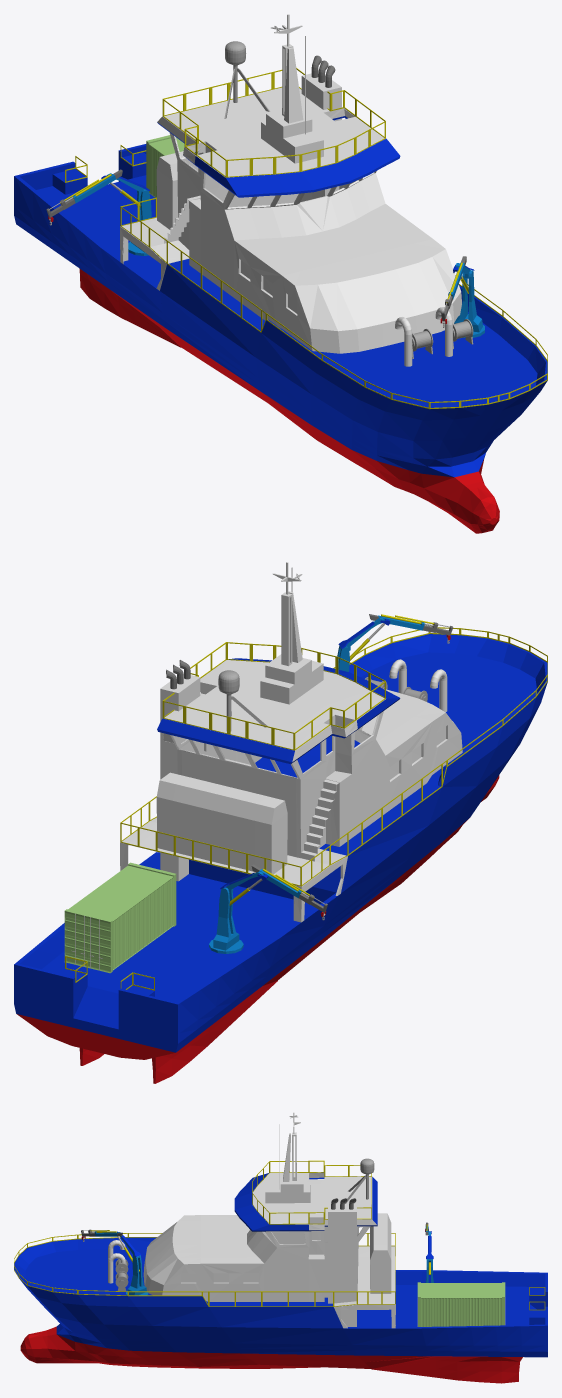
Rendered from aurora.dae.
The picture shows the model from 3 angles, top to bottom: view 1: azimuth 30°, elevation 25°; view 2: azimuth 150°, elevation 25°; view 3: azimuth 270°, elevation 25°; orthographic projection. The views are drawn at different scales.
Visible parts, largest first — view 1: Body, Bridge, Bridge_Device, Handrail_Front, Handrail_Bridge, Crane_Arm1_001, Cylinder; view 2: Body, Bridge, Bridge_Device, Container_20ft, Handrail_Front, Container_Wall, Handrail_Bridge, Bridge_Staircase, Crane_Arm1, Cylinder; view 3: Body, Bridge, Bridge_Device, Container_Wall, Handrail_Front, Container_20ft, Handrail_Bridge, Crane_Arm1_001.
Part boxes in pixels (x1,y1,x2,y2): Body: (14,144,547,533); Bridge: (120,87,461,353); Bridge_Device: (261,14,341,163); Handrail_Front: (120,197,547,409); Handrail_Bridge: (162,68,385,177); Crane_Arm1_001: (454,270,482,332); Cylinder: (225,41,246,102); Body: (14,634,547,1083); Bridge: (120,658,462,922); Bridge_Device: (160,562,323,881); Container_20ft: (64,862,176,973); Handrail_Front: (120,627,547,886); Container_Wall: (112,877,173,970); Handrail_Bridge: (162,642,385,750); Bridge_Staircase: (301,779,338,861); Crane_Arm1: (213,887,239,950); Cylinder: (218,670,239,731); Body: (14,1237,547,1383); Bridge: (143,1172,395,1328); Bridge_Device: (265,1112,356,1326); Container_Wall: (421,1298,501,1326); Handrail_Front: (14,1233,395,1306); Container_20ft: (417,1282,505,1326); Handrail_Bridge: (252,1160,371,1224); Crane_Arm1_001: (127,1255,146,1295).
Bounding box in the file's own units: 12.26 × 37 × 19.69.
